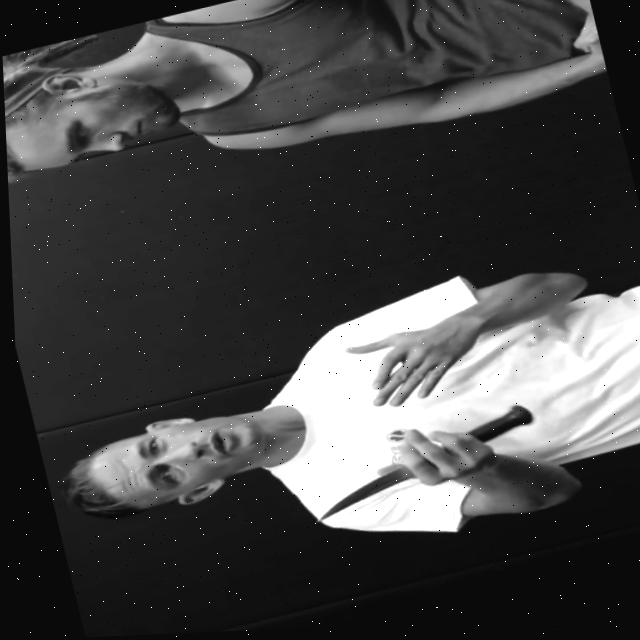knife: (302, 470, 414, 527)
